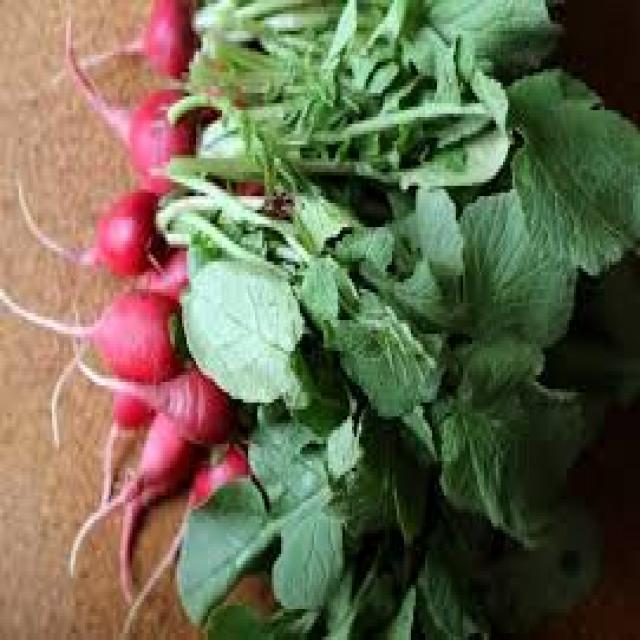organic waste: (175, 255, 638, 547), (172, 386, 600, 636), (165, 62, 638, 279), (151, 182, 576, 348), (187, 0, 562, 110), (116, 440, 246, 636), (62, 10, 198, 193), (66, 410, 201, 578), (71, 334, 234, 447), (0, 282, 182, 382), (16, 176, 163, 276), (116, 440, 203, 606), (54, 0, 196, 83), (196, 76, 265, 192), (97, 389, 151, 502), (127, 244, 189, 296)
